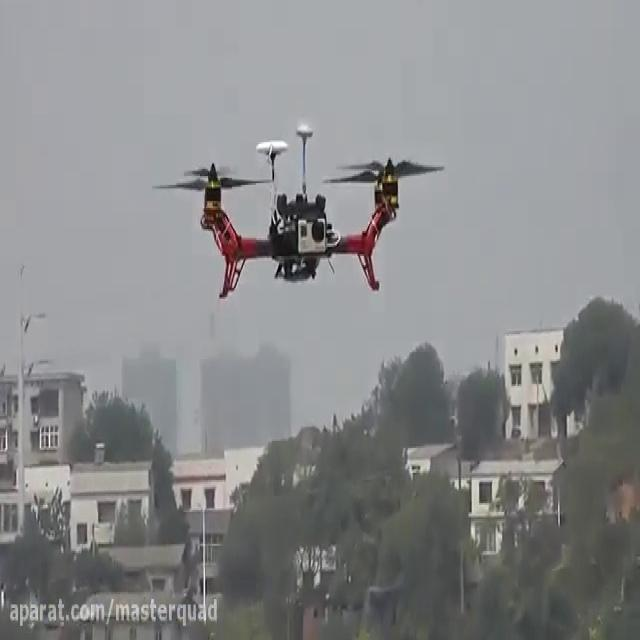drone: (150, 119, 446, 299)
